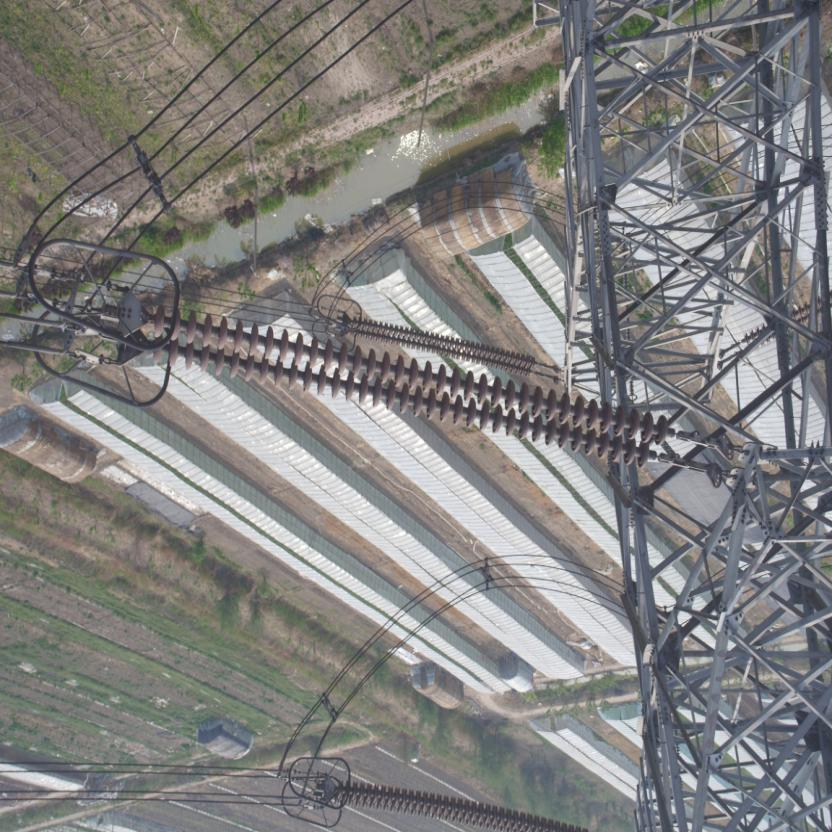insulator: (134, 294, 692, 473), (347, 315, 545, 384), (327, 782, 592, 831)
